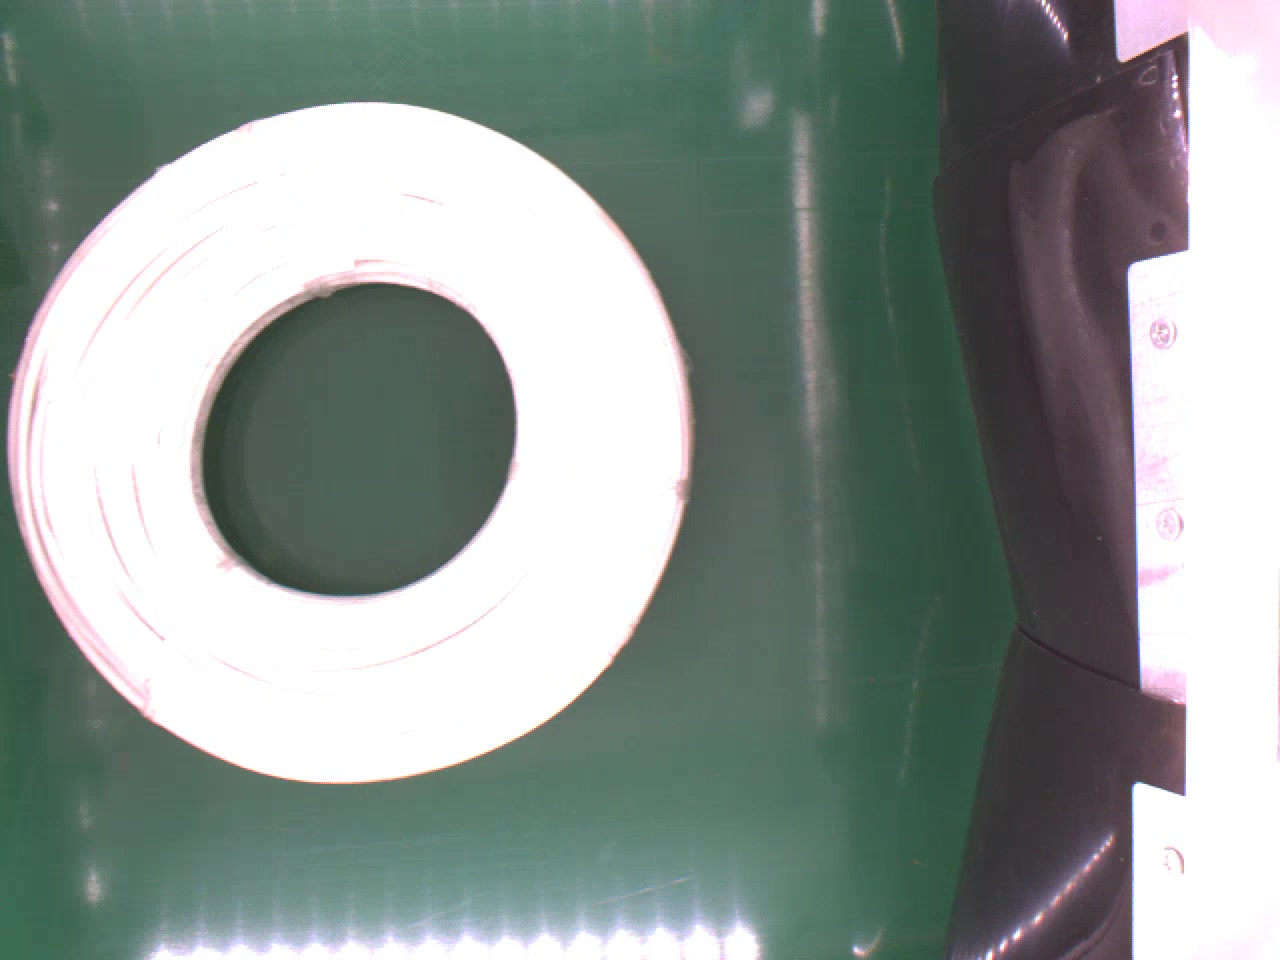white: (10, 100, 694, 793)
